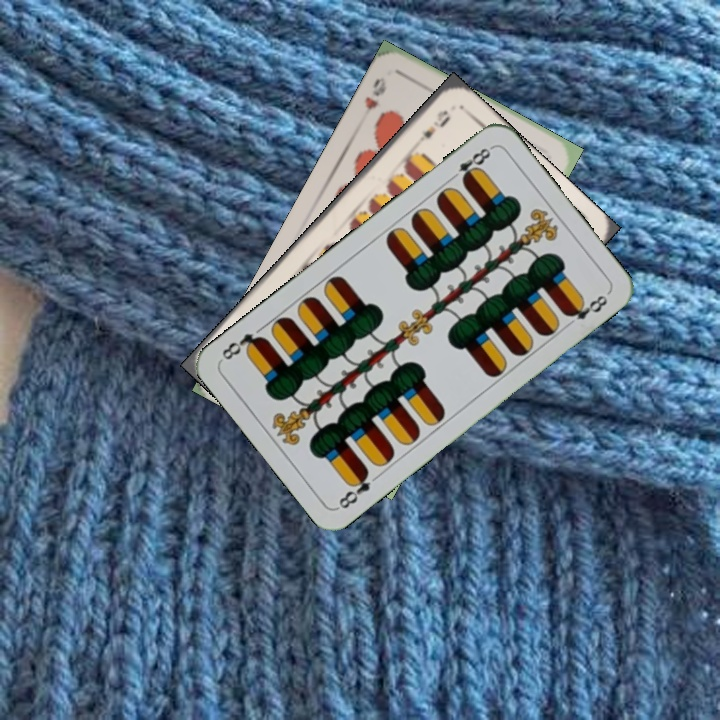E8: (445, 143, 495, 186), (334, 465, 374, 513)
E9: (409, 106, 454, 152)
H9: (360, 73, 389, 113)
